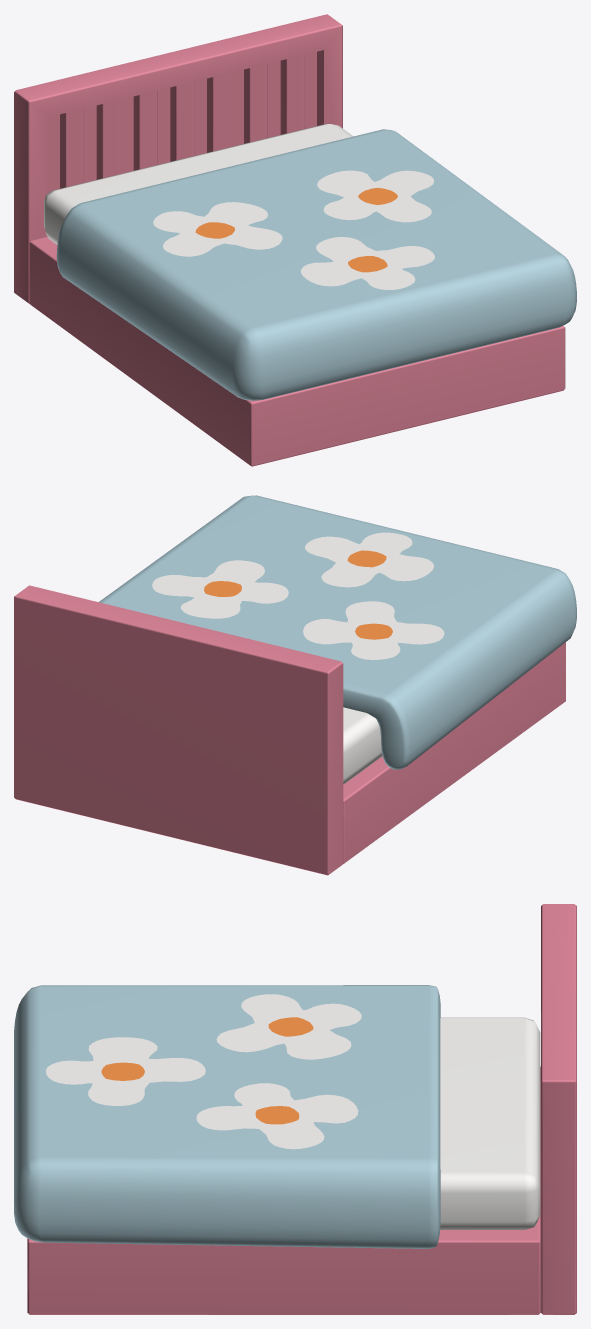
File: Bed_2.glb
3 views of the same model, one above another, from view 1: azimuth 30°, elevation 25°; view 2: azimuth 150°, elevation 25°; view 3: azimuth 270°, elevation 25° (orthographic). The views are drawn at different scales.
Parts seen in each view (by area): view 1: Bed_6; view 2: Bed_6; view 3: Bed_6.
Part boxes in pixels (<box>): Bed_6: <box>14,14,576,466</box>; Bed_6: <box>14,495,576,875</box>; Bed_6: <box>14,904,576,1314</box>.
Size of the model in its own units: 2.01 by 1.11 by 2.41.
1 material, 1 textured.
